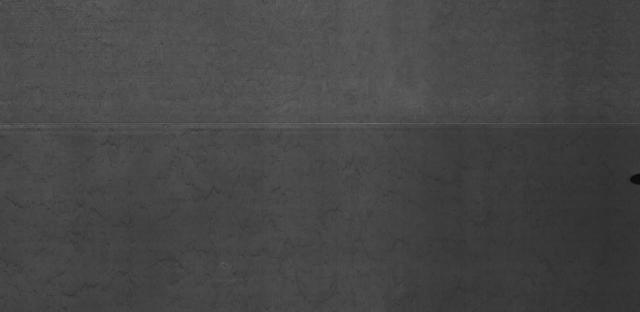punching_hole: (627, 169, 640, 185)
silk_spot: (6, 143, 612, 306)
welding_line: (1, 118, 638, 134)
